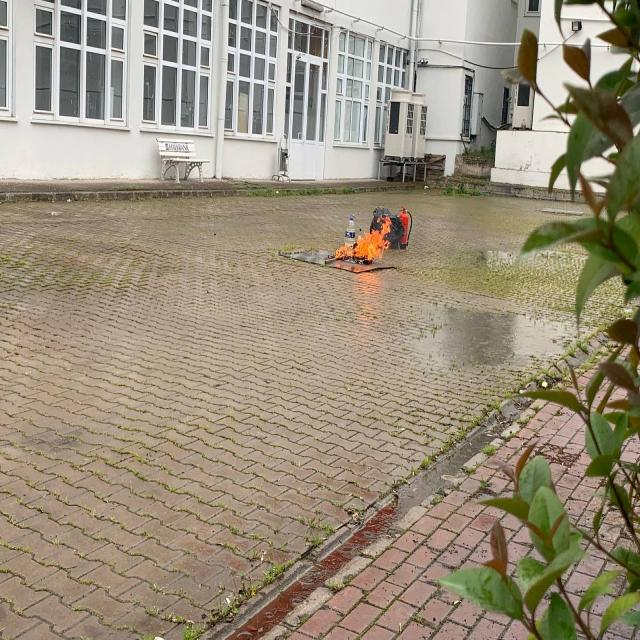fire: (330, 218, 399, 270)
